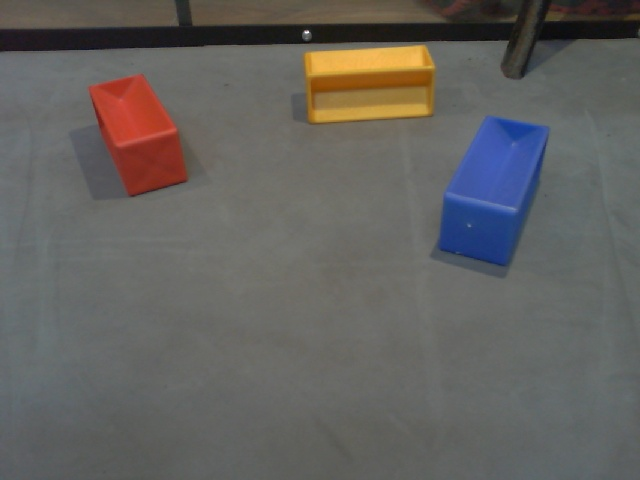BlueSample: (435, 114, 550, 271)
RedSample: (83, 69, 190, 205)
YellowSample: (300, 43, 437, 127)
